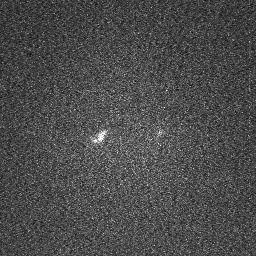dot: (93, 130, 108, 144)
